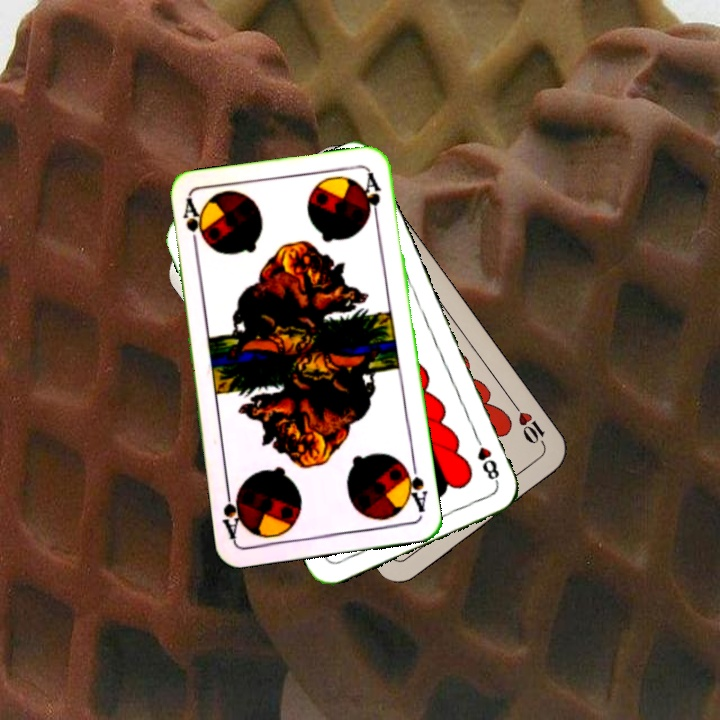H10: (509, 399, 549, 451)
H8: (470, 430, 502, 486)
SA: (398, 457, 430, 515), (179, 195, 207, 255)
